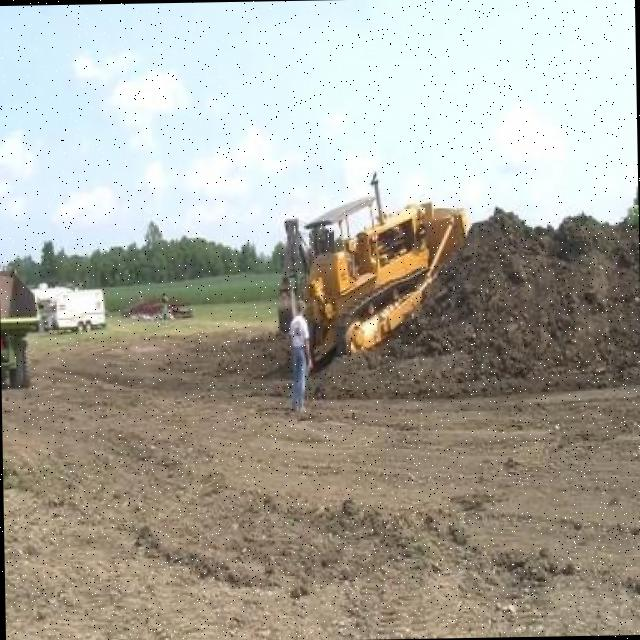Bulldozer: (306, 169, 474, 372)
Dump Truck: (0, 268, 41, 390)
